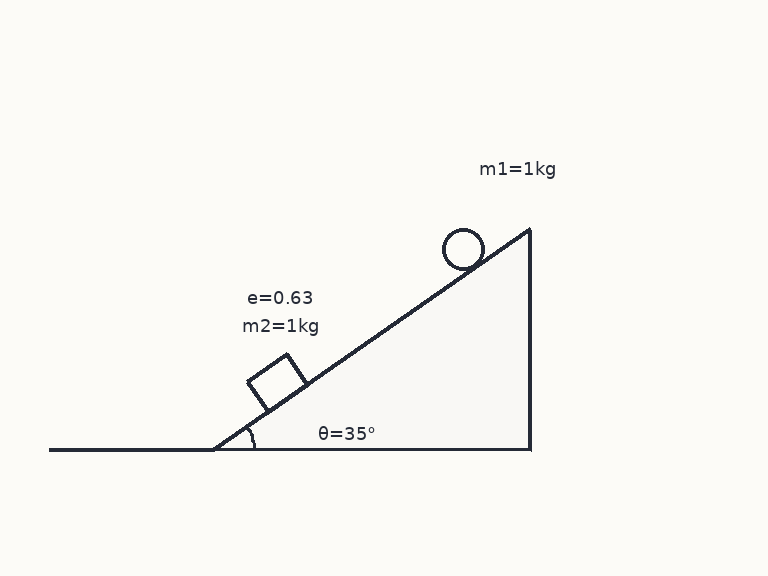ball: (440, 226, 486, 272)
block: (245, 352, 309, 414)
ramp: (212, 226, 531, 451)
